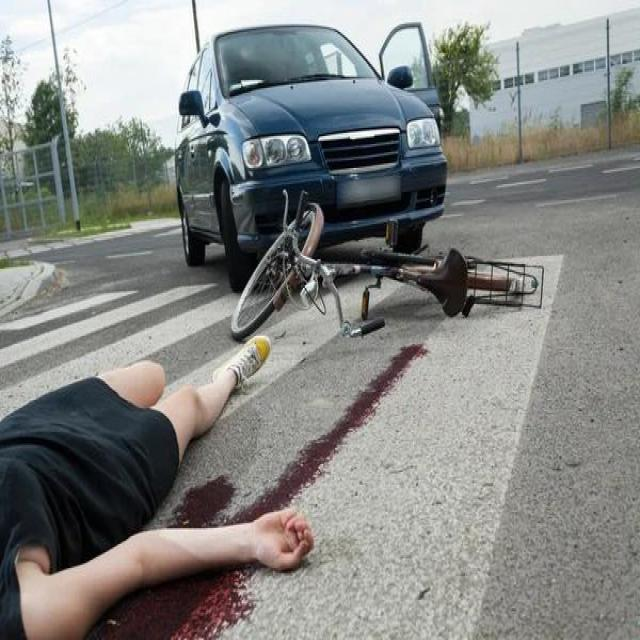flood: (76, 504, 275, 640), (259, 431, 307, 514), (308, 392, 351, 465), (356, 367, 376, 424), (396, 342, 431, 369), (377, 361, 400, 393)
